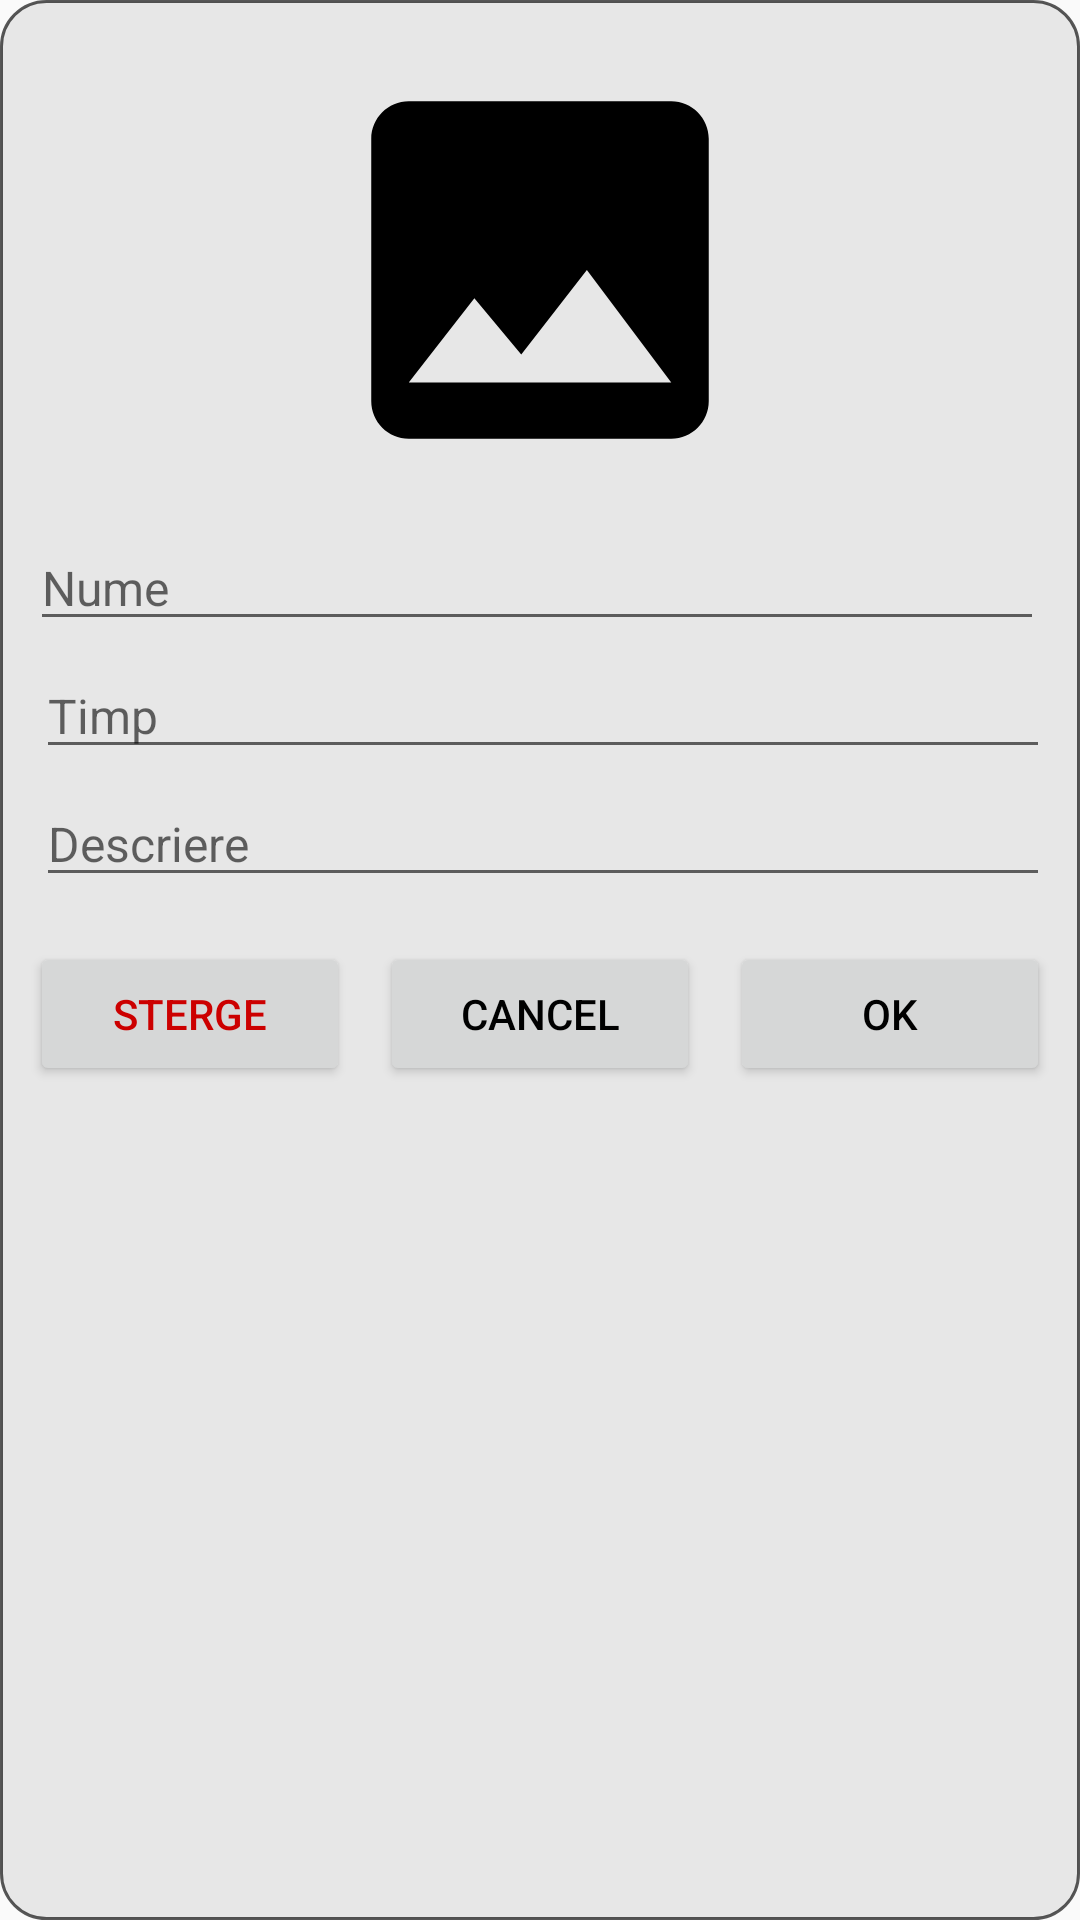

Point at icon controls on the screen. Image size 1080*1920, points as (x=x, y=y).
photo: (x=540, y=270)
